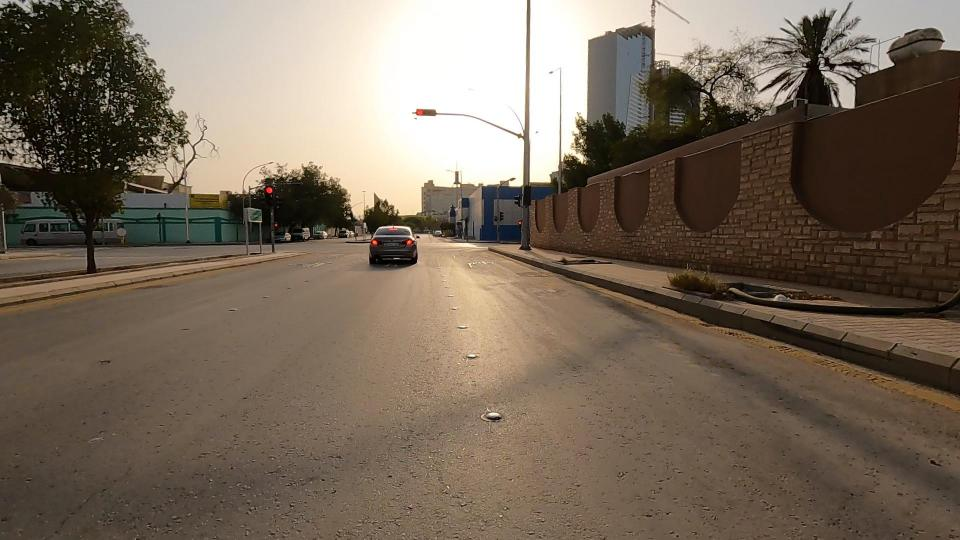FADED_SIGNAGE: (229, 194, 280, 238)
